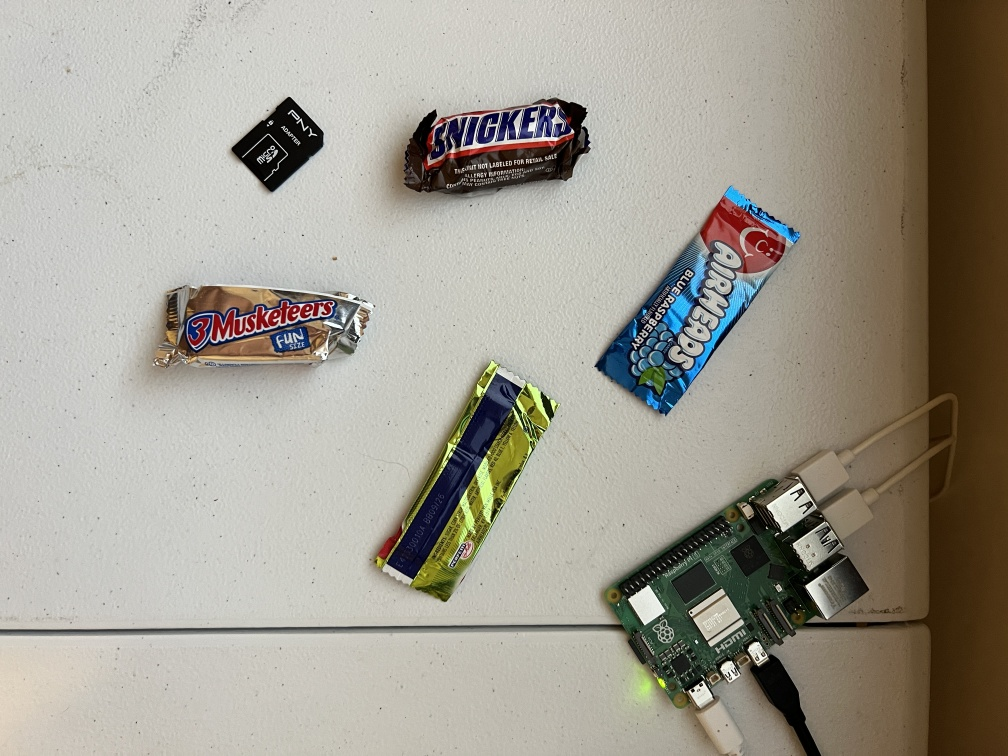airheads: (612, 173, 794, 427), (385, 378, 549, 618)
snickers: (390, 93, 608, 204)
three_musketeers: (151, 278, 381, 380)
